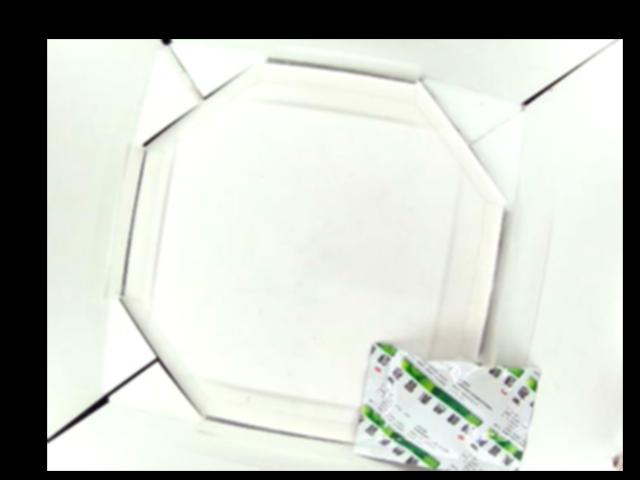Medicine: (352, 343, 540, 470)
